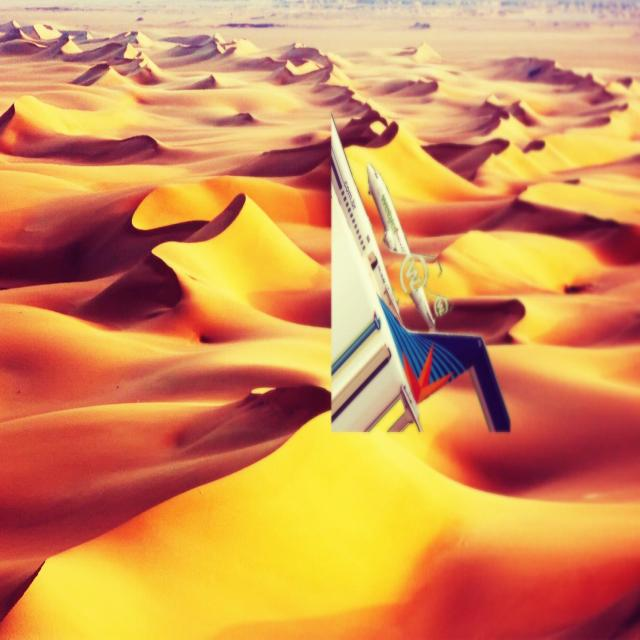airplane: (329, 111, 522, 435)
